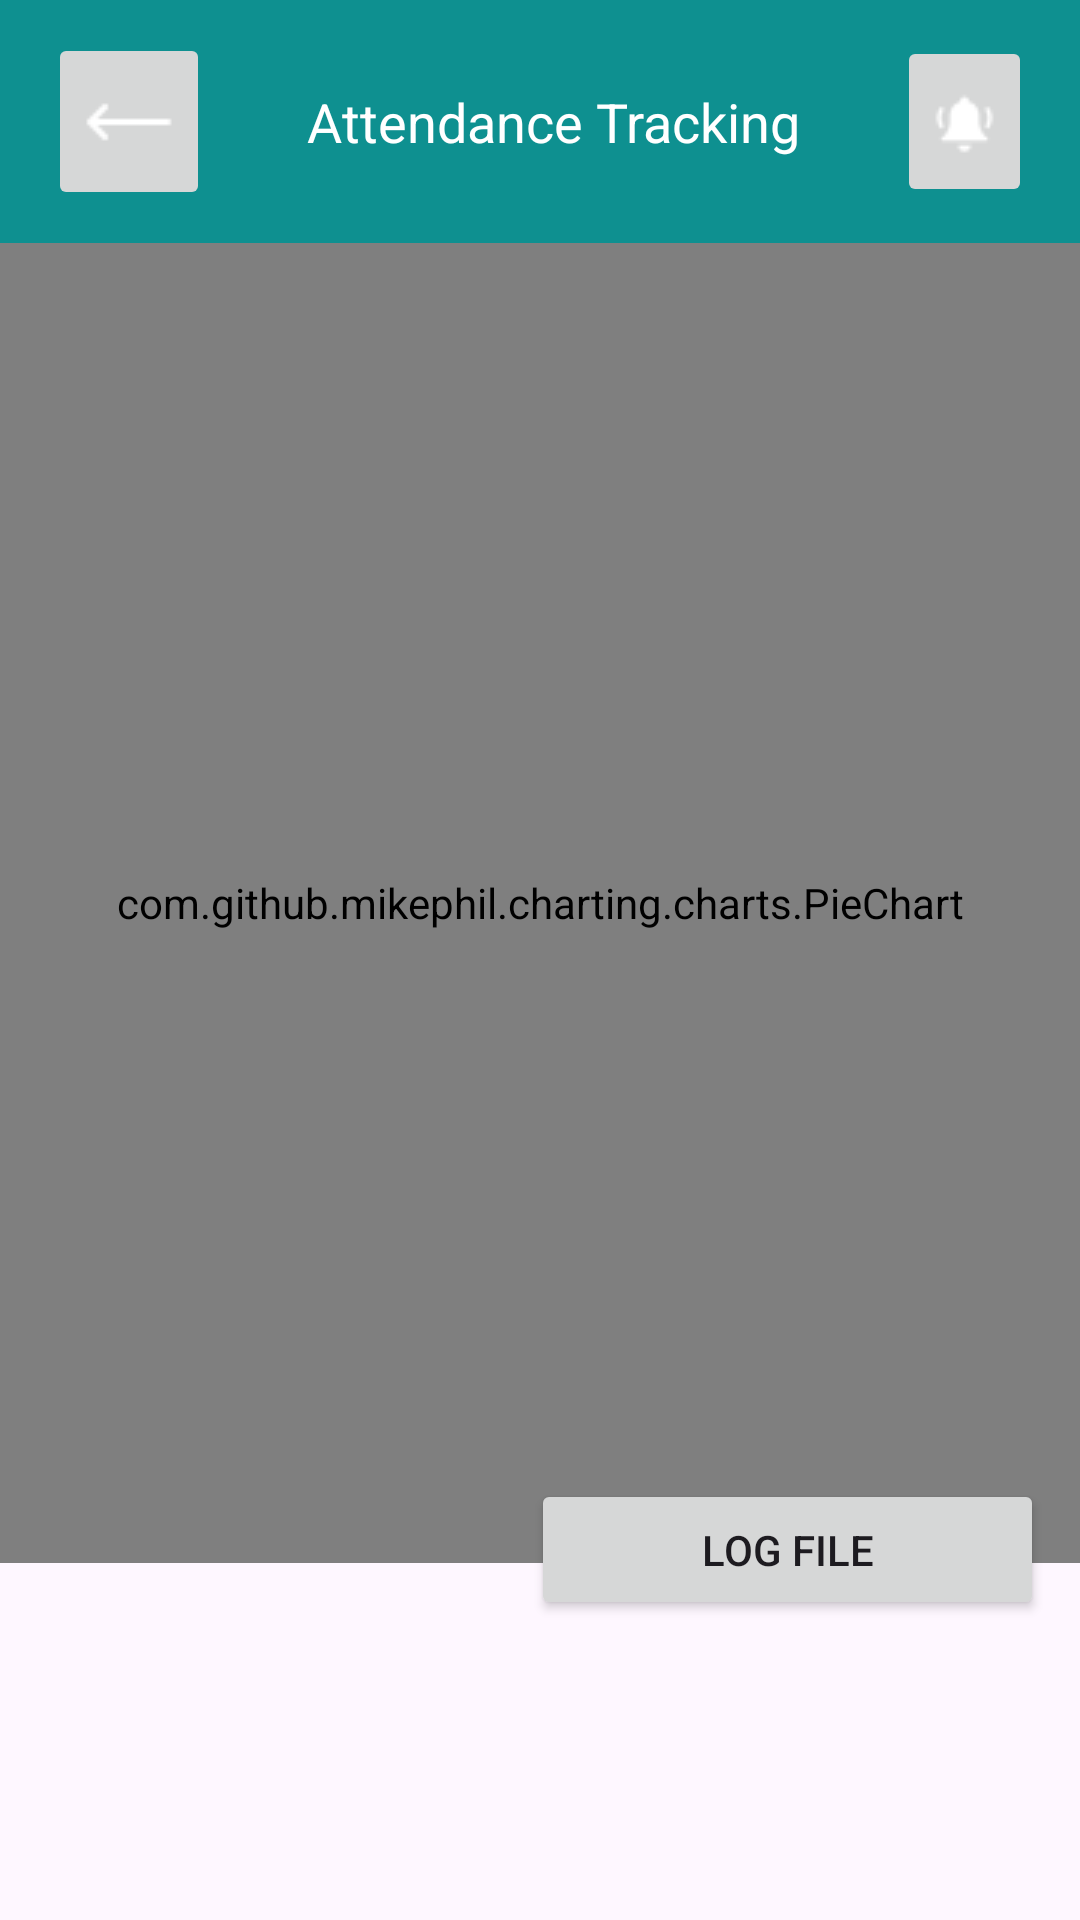

Named icons in this screenshot (1080x1920) and their bounding boxes, [x1=x1, y1=y1, x2=x2, y2=y2]:
leftarrow: [x1=60, y1=51, x2=198, y2=192]
notfc: [x1=909, y1=54, x2=1020, y2=189]
